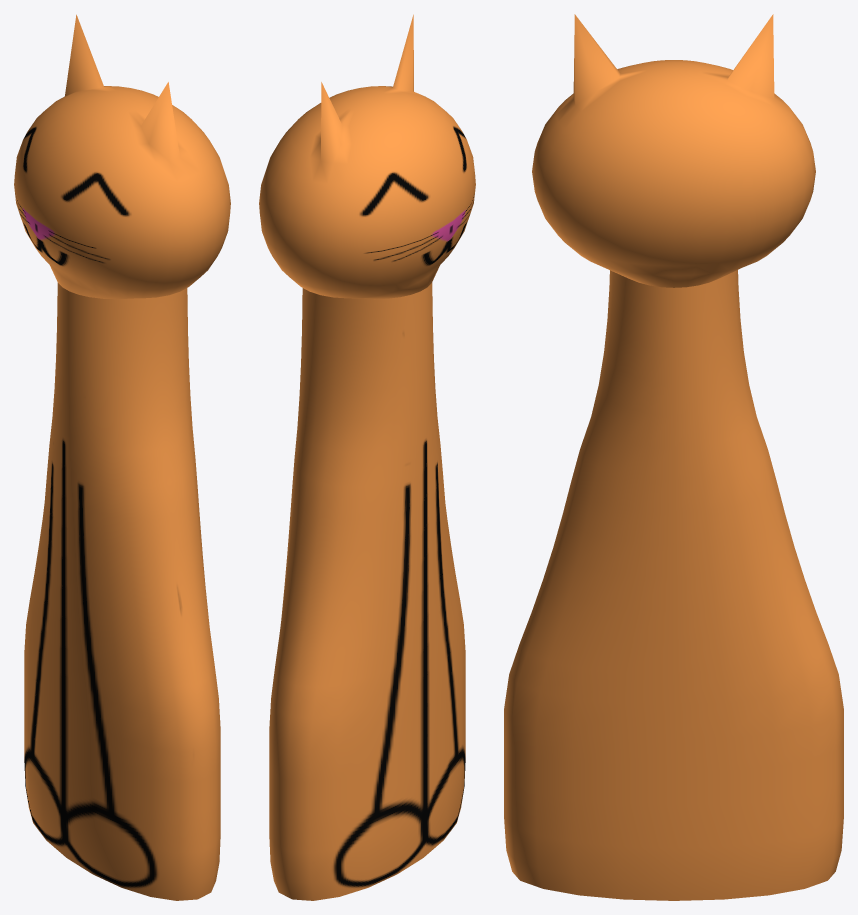
The model's file is Cat.FBX.
3 renders of one model, left to right at view 1: azimuth 30°, elevation 25°; view 2: azimuth 150°, elevation 25°; view 3: azimuth 270°, elevation 25°, orthographic. The views are drawn at different scales.
Parts seen in each view (by area): view 1: Cylinder005, Sphere001; view 2: Cylinder005, Sphere001; view 3: Cylinder005, Sphere001.
Part boxes in pixels (x1,y1,x2,y2): Cylinder005: (24, 283, 220, 900); Sphere001: (14, 14, 230, 299); Cylinder005: (269, 283, 465, 900); Sphere001: (259, 14, 475, 299); Cylinder005: (504, 270, 843, 900); Sphere001: (532, 14, 815, 287).
Size of the model in its own units: 50.51 by 223 by 80.
2 materials, 2 textured.
